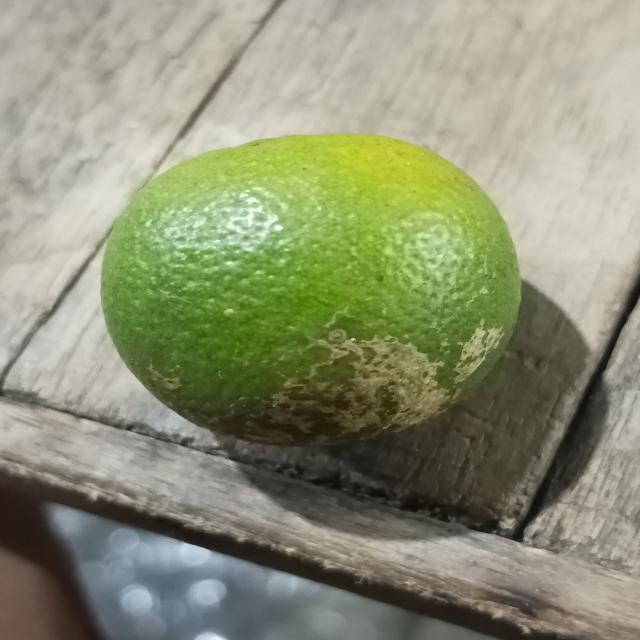thrips: (91, 133, 527, 455)
